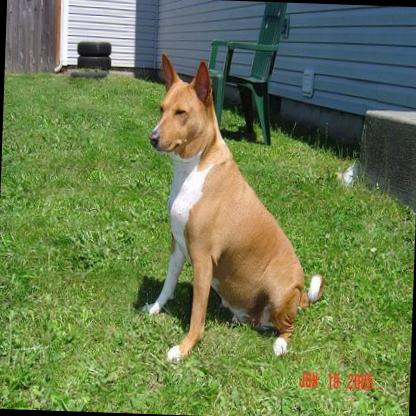basenji: (140, 48, 332, 366)
